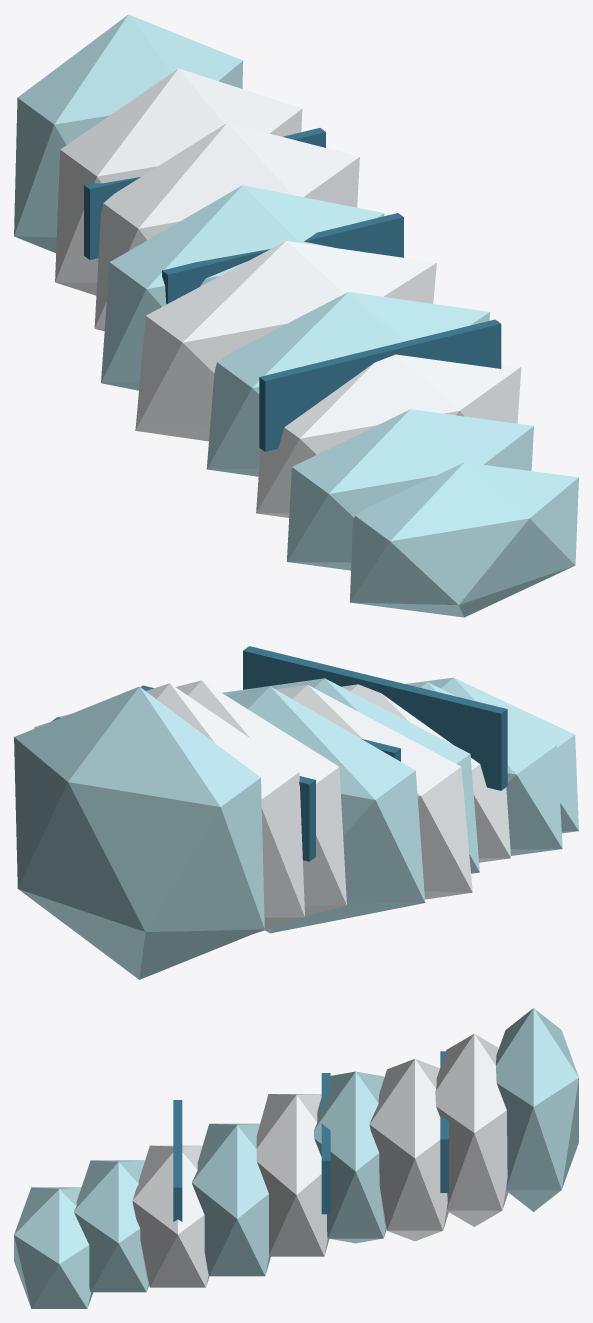
The model's file is glacier_ice.glb.
The picture shows the model from 3 angles, top to bottom: view 1: azimuth 30°, elevation 25°; view 2: azimuth 150°, elevation 25°; view 3: azimuth 270°, elevation 25°; orthographic projection. The views are drawn at different scales.
Parts seen in each view (by area): view 1: CLGlacier; view 2: CLGlacier; view 3: CLGlacier.
Part boxes in pixels (left/top/right/bottom): CLGlacier: left=14, top=14, right=578, bottom=617; CLGlacier: left=14, top=646, right=578, bottom=979; CLGlacier: left=14, top=1008, right=578, bottom=1308.
Size of the model in its own units: 0.4684 by 0.54 by 0.9531.
